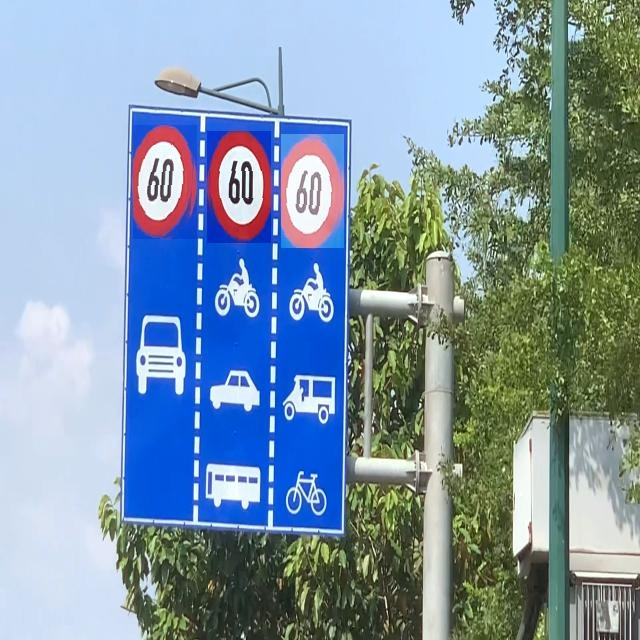bien_hieu_lenh: (133, 125, 197, 239), (281, 134, 344, 248), (207, 132, 271, 244)
